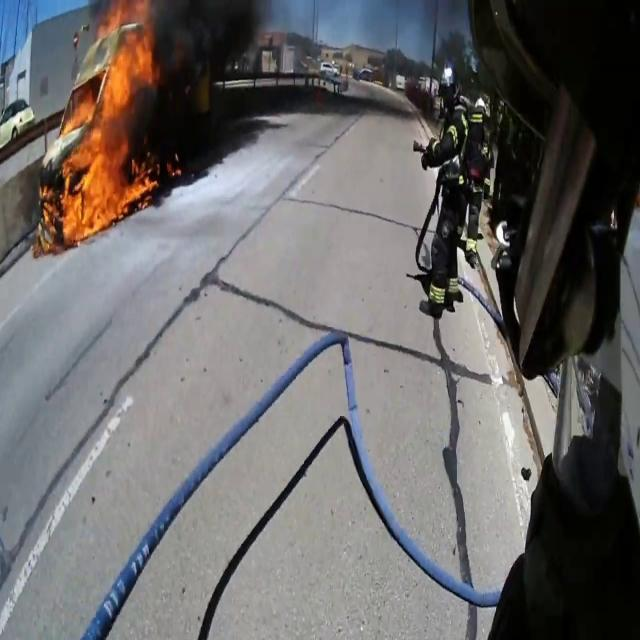Fire: (44, 3, 162, 247)
